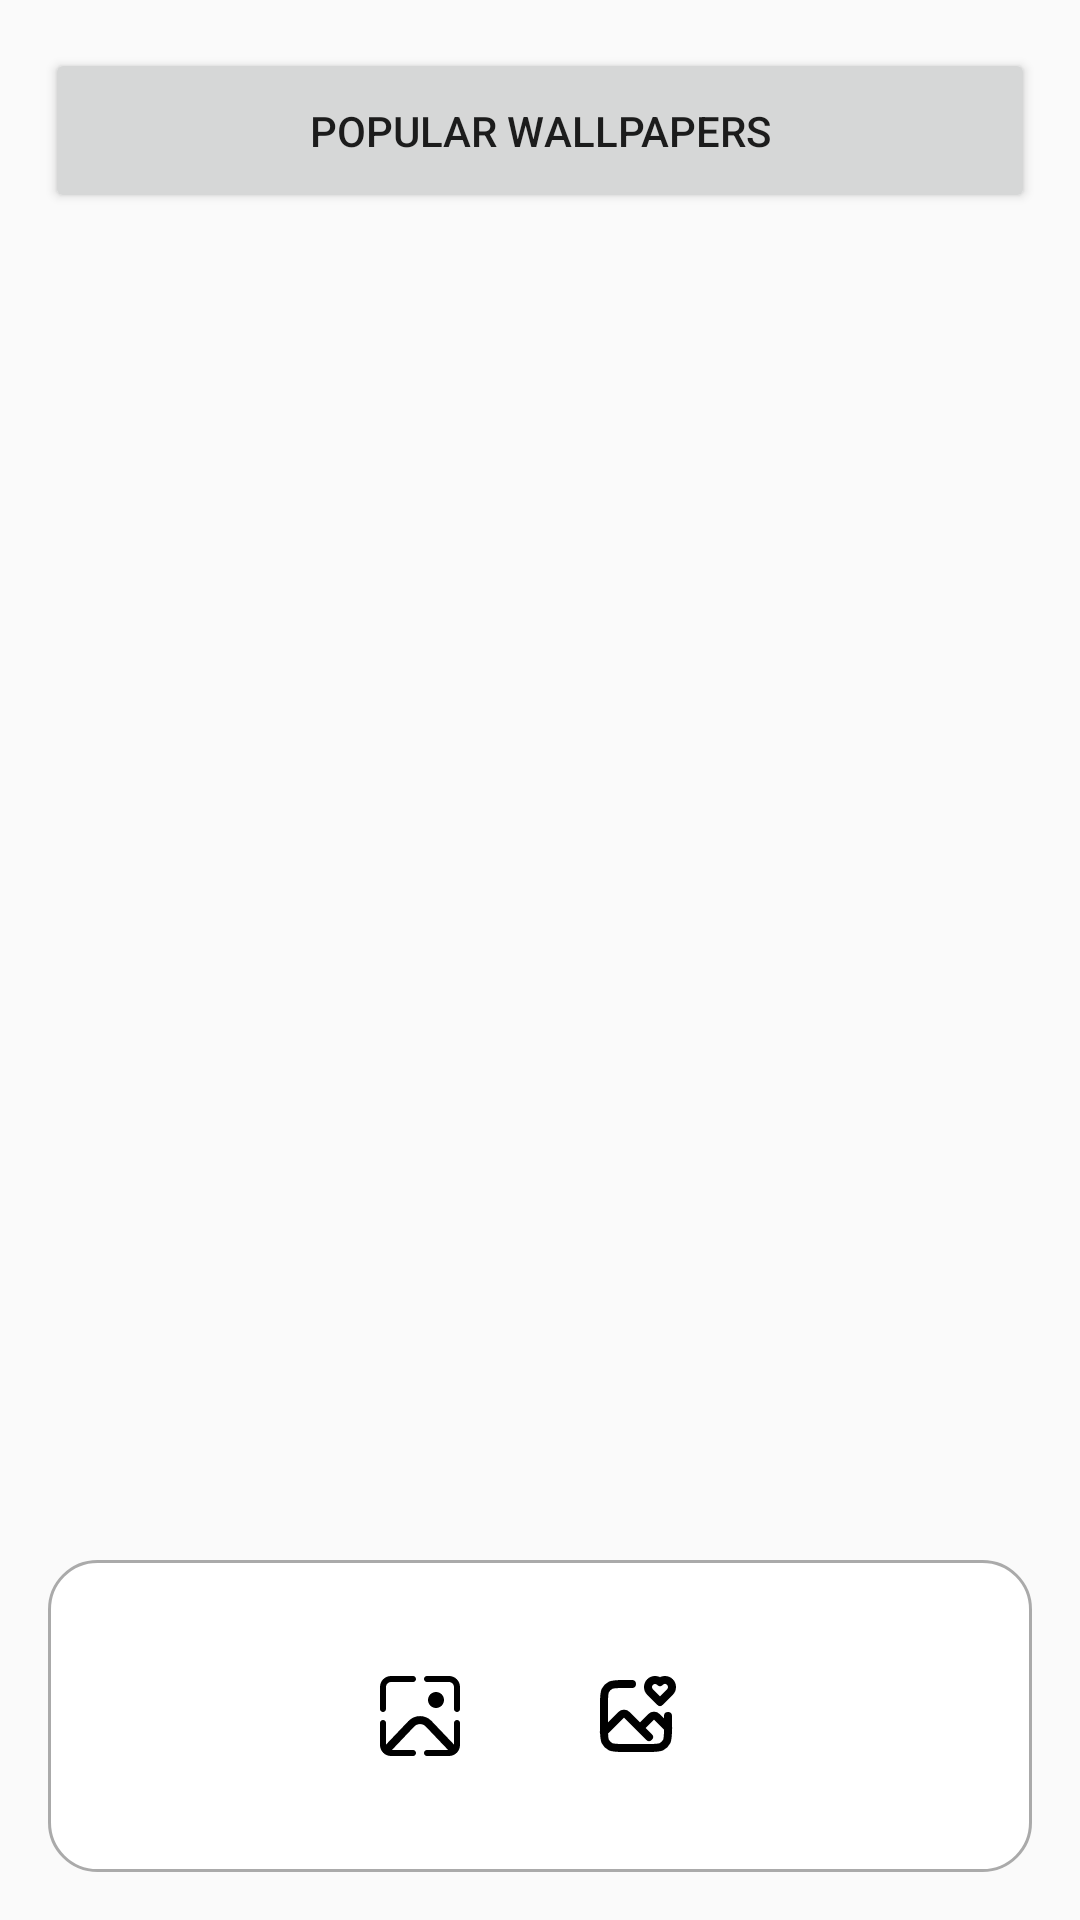

Locate icon controls on the screen. Image size 1080px×1920px, boxes as [x1, y1, x2, y2].
favourite: [599, 1676, 676, 1752]
